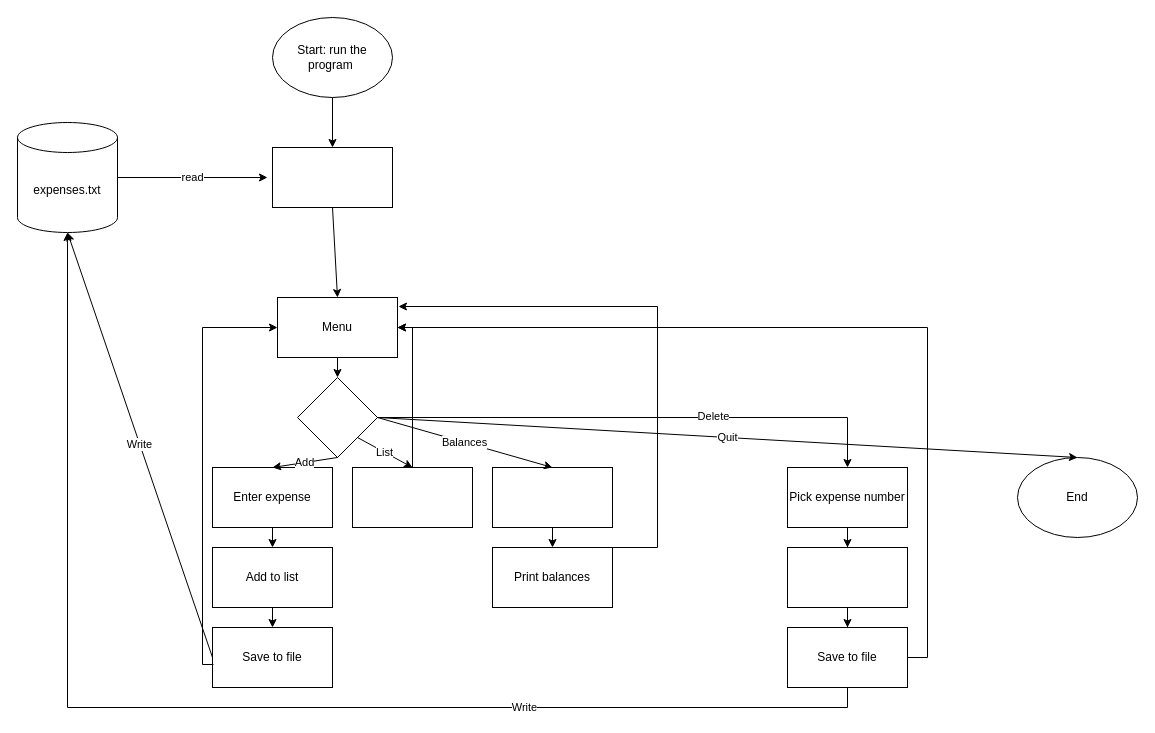
Image size: 1155x733. Some labels were removed from this diagram. Here are the shapes that lost their labels. From the top down, the centre of each, then its label:
(332,177): Load expenses from expenses.txt into ArrayList
(337,417): User choice
(412,497): Print expenses
(552,497): Calculate balances
(847,577): Remove from list
